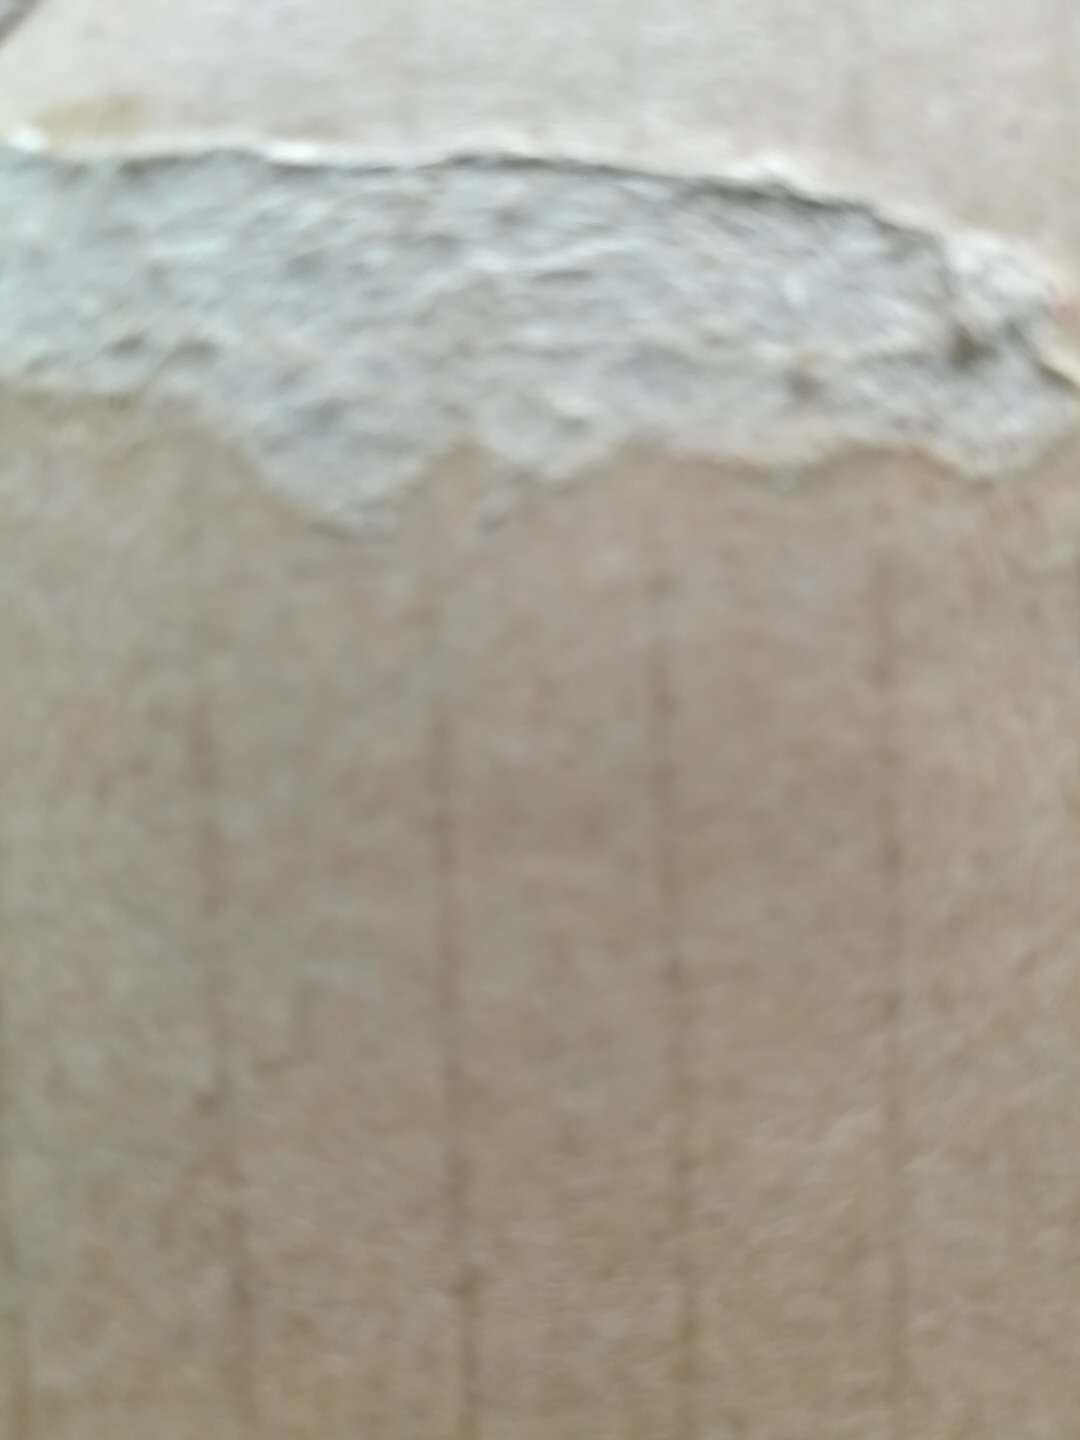defect: (1, 2, 1080, 578)
